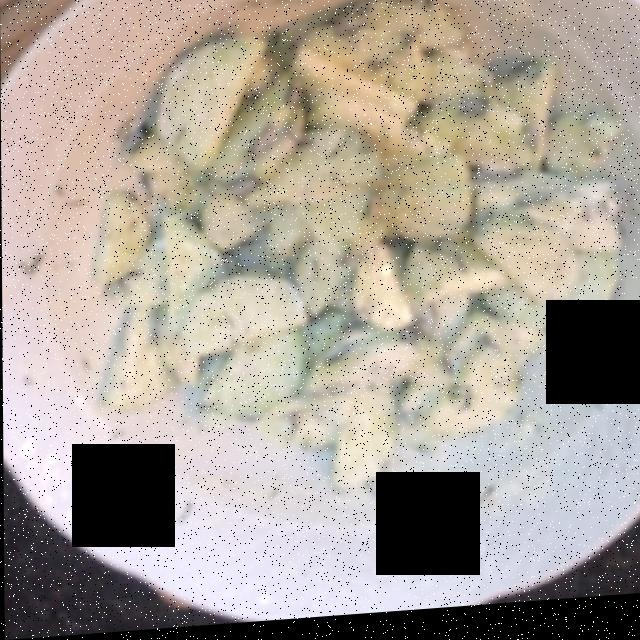cucumber: (94, 29, 612, 480)
sour-cream: (100, 53, 555, 447)
